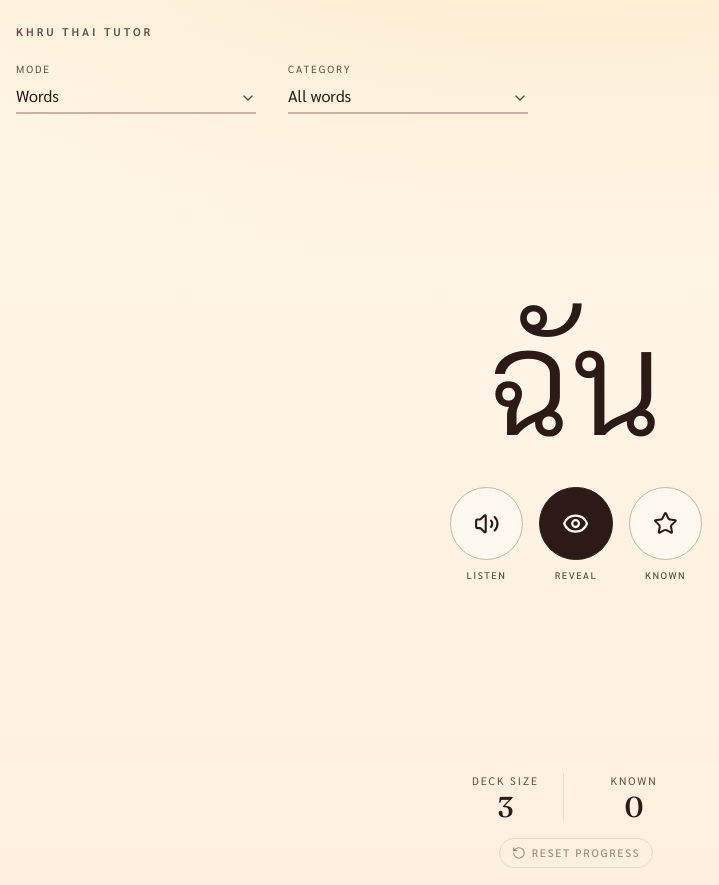
App › uses fresh reward playback instances for rapid consecutive known taps
Click the button named "mark as mastered" at (666, 524), box [629,487,702,560]
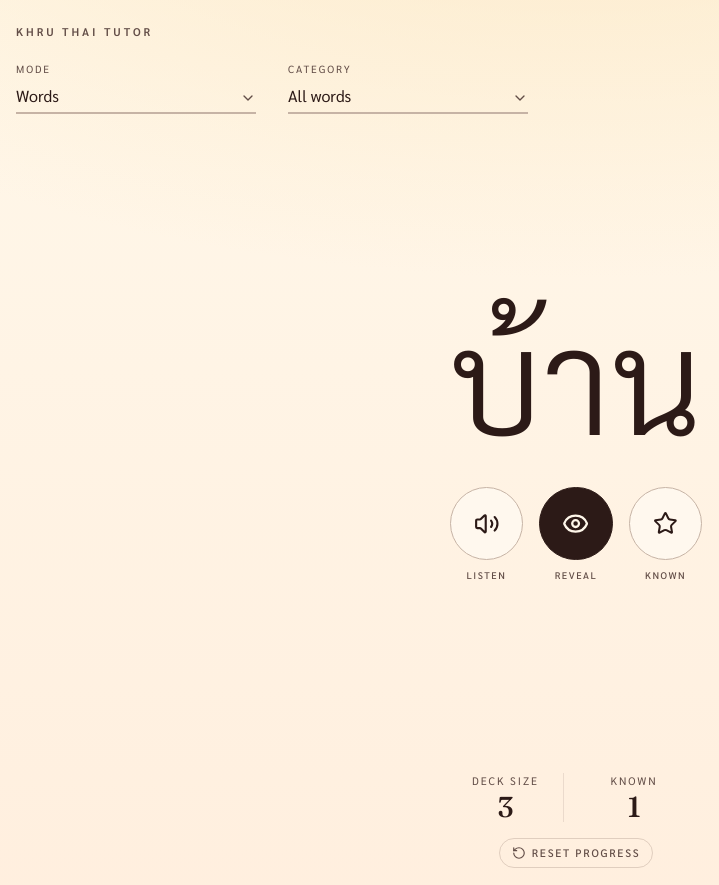
Now the text "บ้าน" is shown, box [450,296,702,455]
Click the button named "mark as mastered" at (666, 524), box [629,487,702,560]
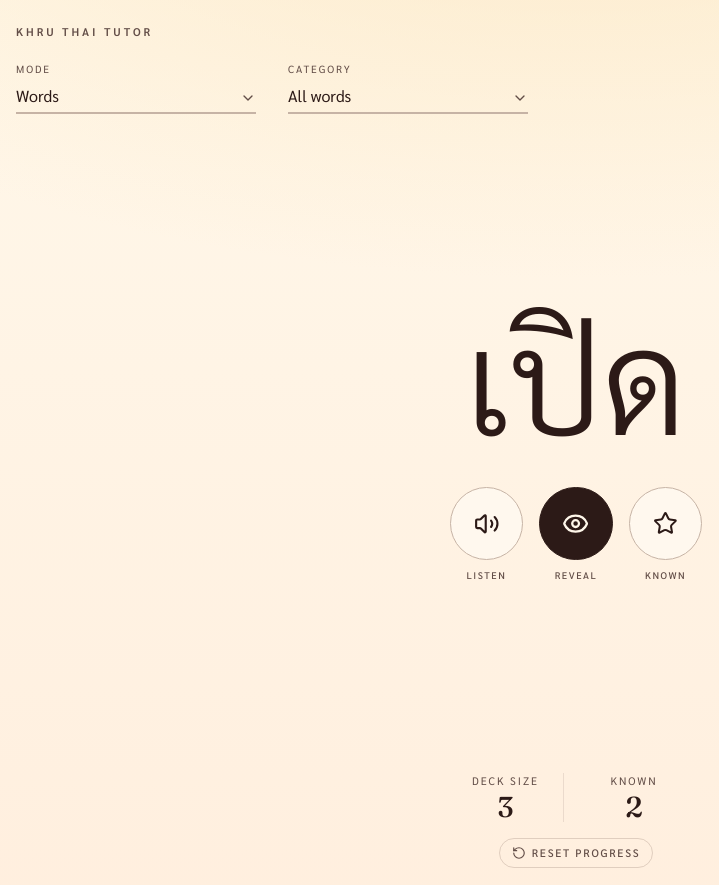
Now the text "เปิด" is shown, box [465,296,687,455]
